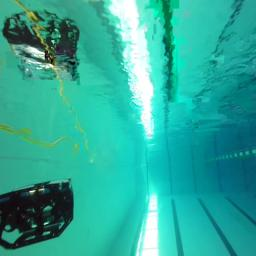Side: (0, 178, 74, 250)
